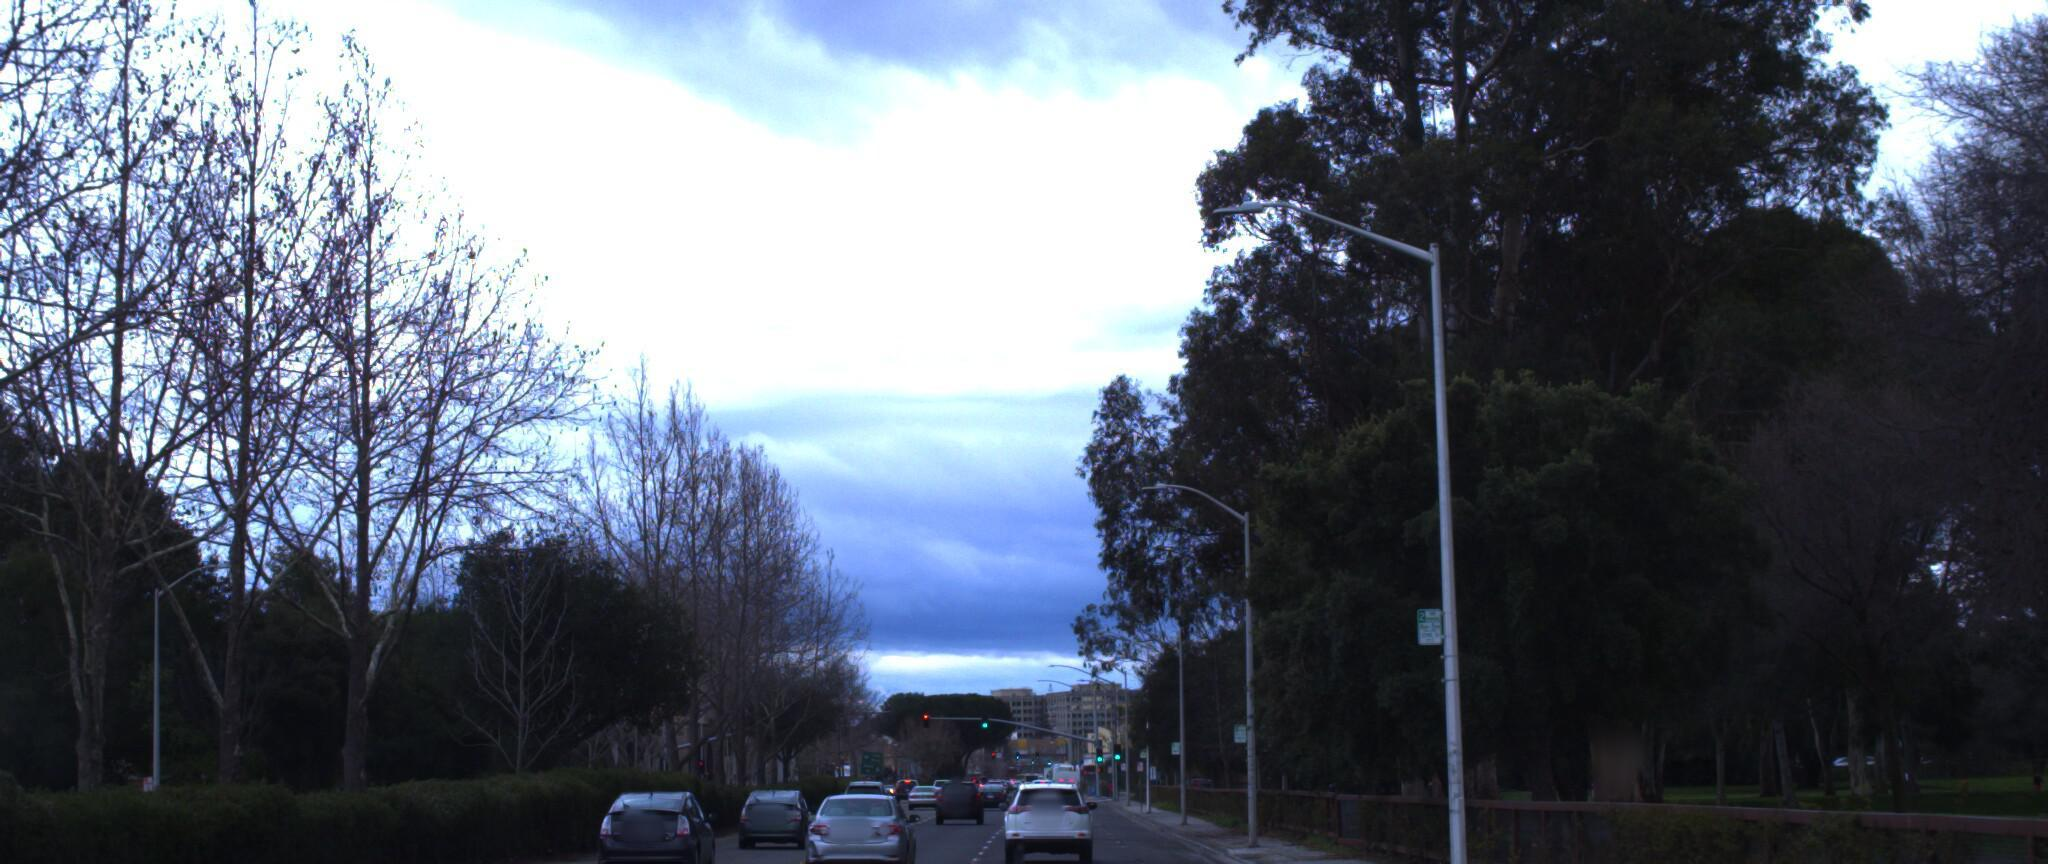car: (788, 778, 906, 864), (588, 784, 714, 864), (989, 777, 1080, 864)
